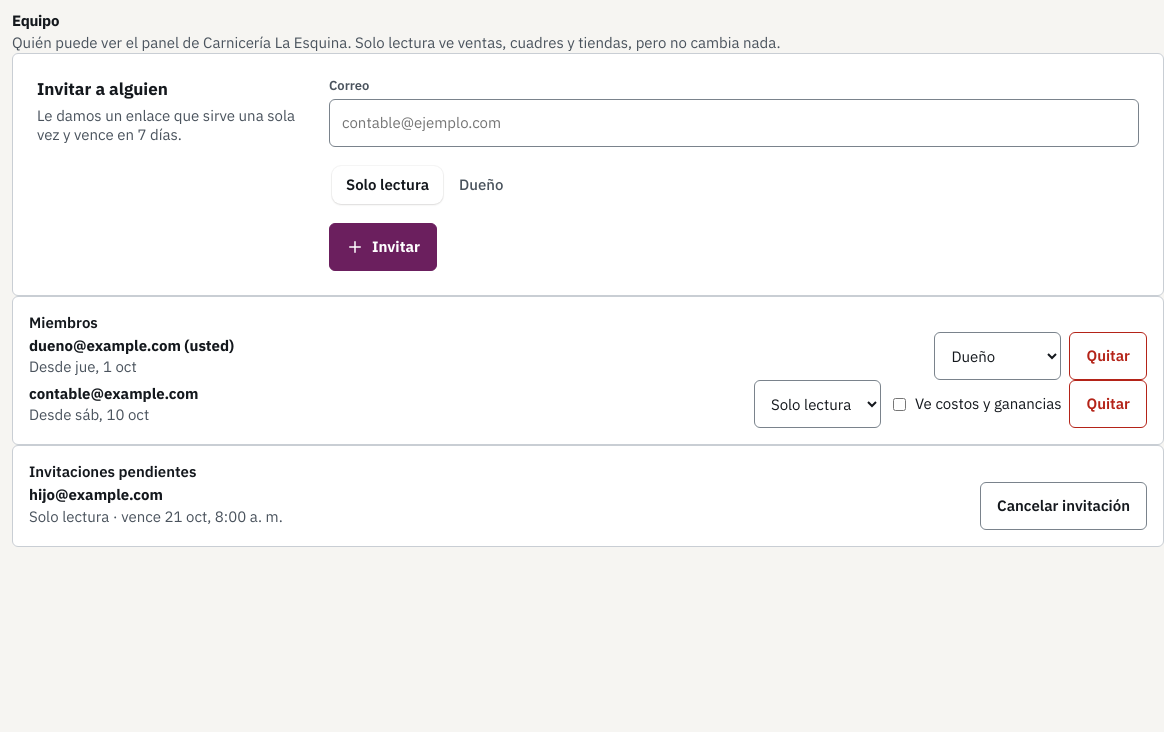
Test case: TK-217: an owner sees the team, invites someone and gets the link to copy
Check: the text "contable@example.com" is shown, box [29,384,198,403]
Check: the text "dueno@example.com (usted)" is shown, box [29,336,234,355]
Type "nuevo@example.com" into the field labelled "Correo".
click(734, 123); type("nuevo@example.com")  # box [329,99,1139,147]
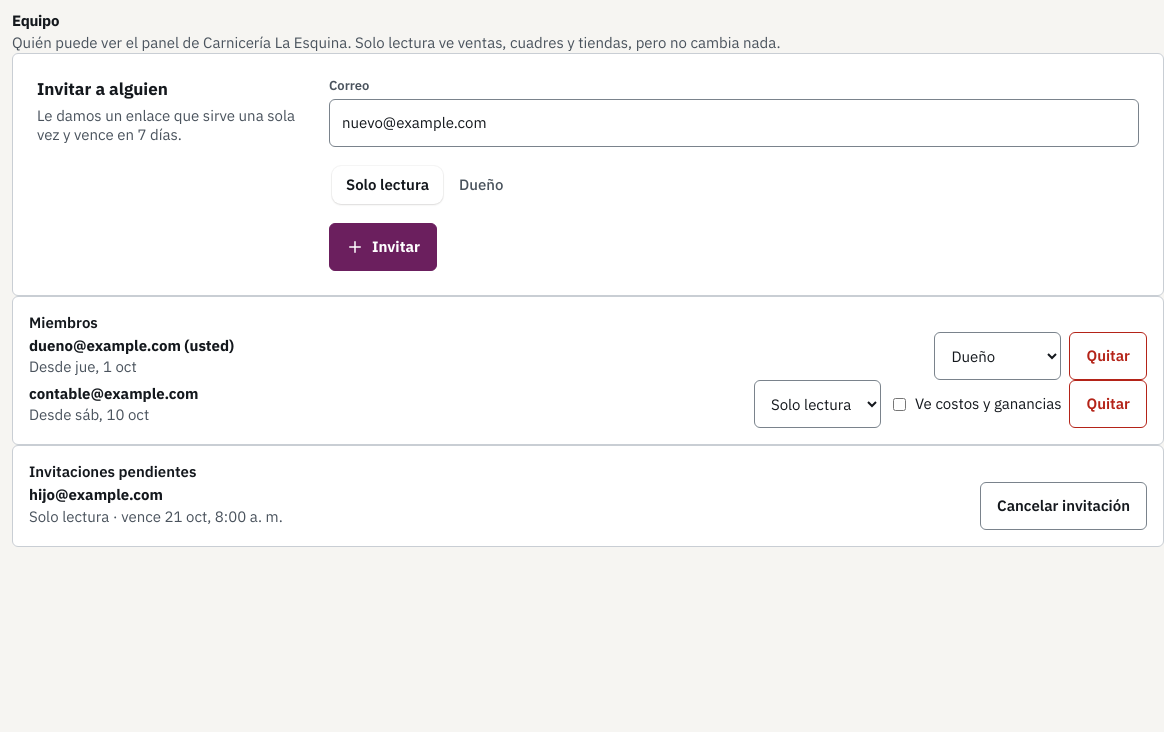
Click the button "Dueño".
click(481, 185)  # box [445,166,518,204]
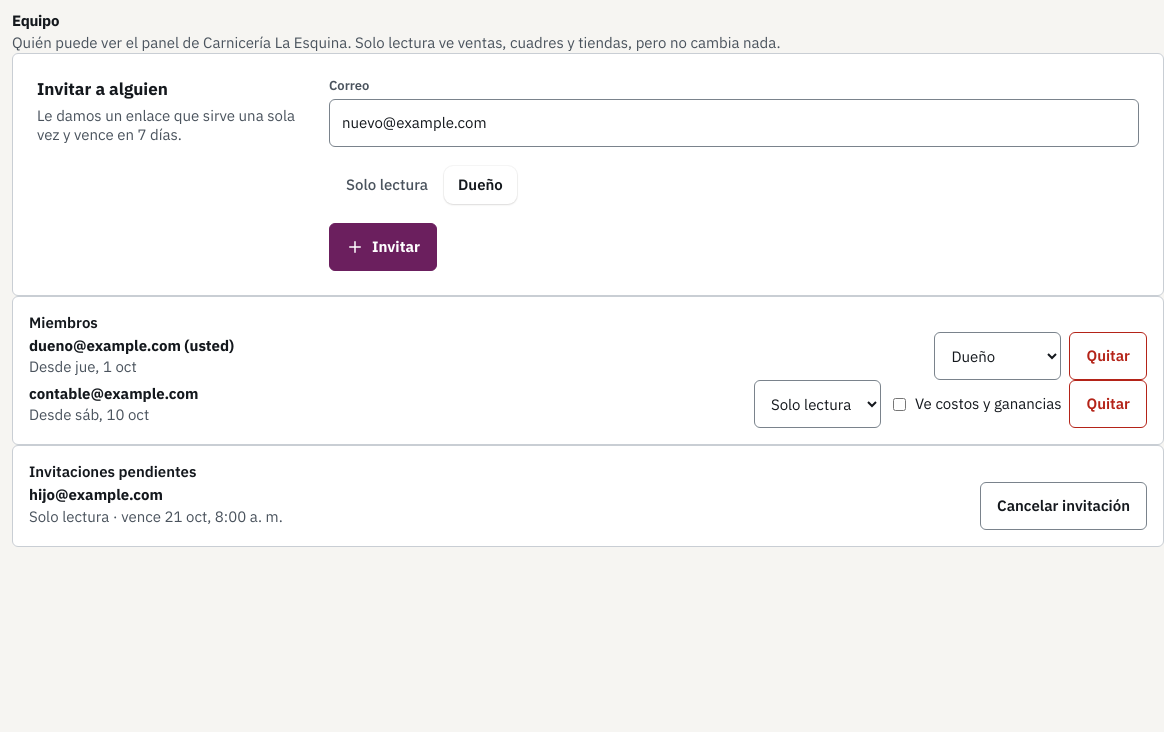
Click the button "Invitar".
click(383, 247)  # box [329,223,437,271]
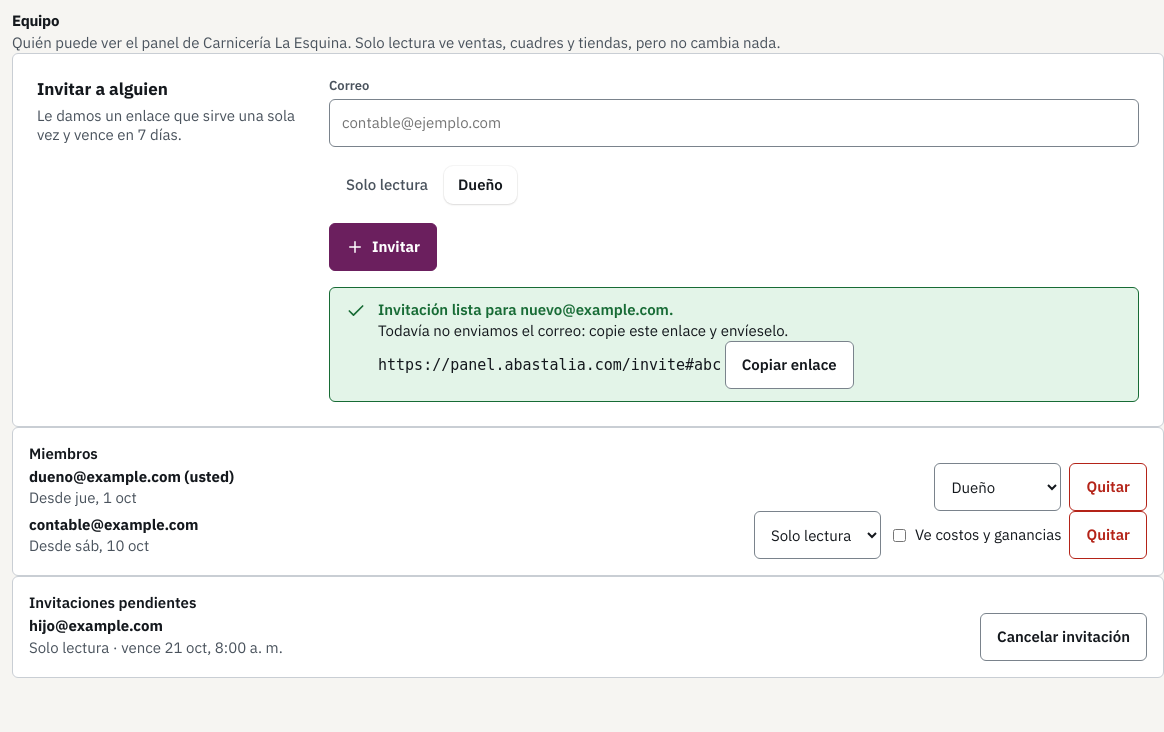
Check: the text "Invitación lista para nuevo@example.com." is shown, box [378,300,673,319]
Check: the text "https://panel.abastalia.com/invite#abc" is shown, box [378,356,721,374]
